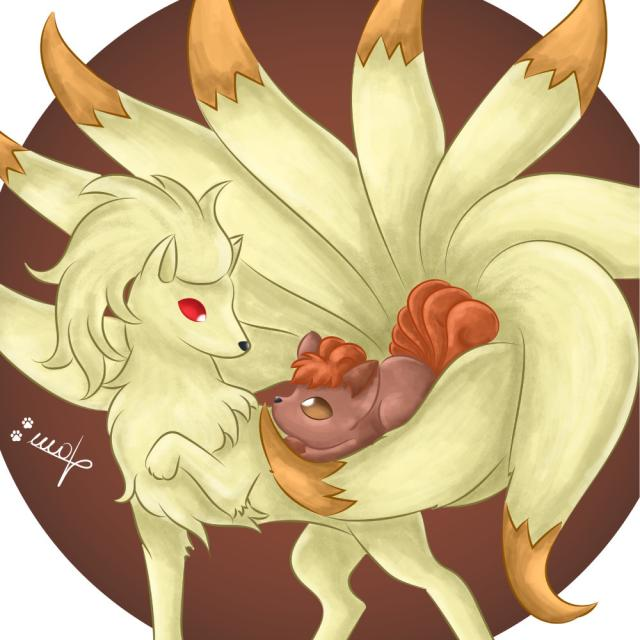Ninetales: (43, 18, 616, 640)
Vulpix: (245, 273, 510, 470)
